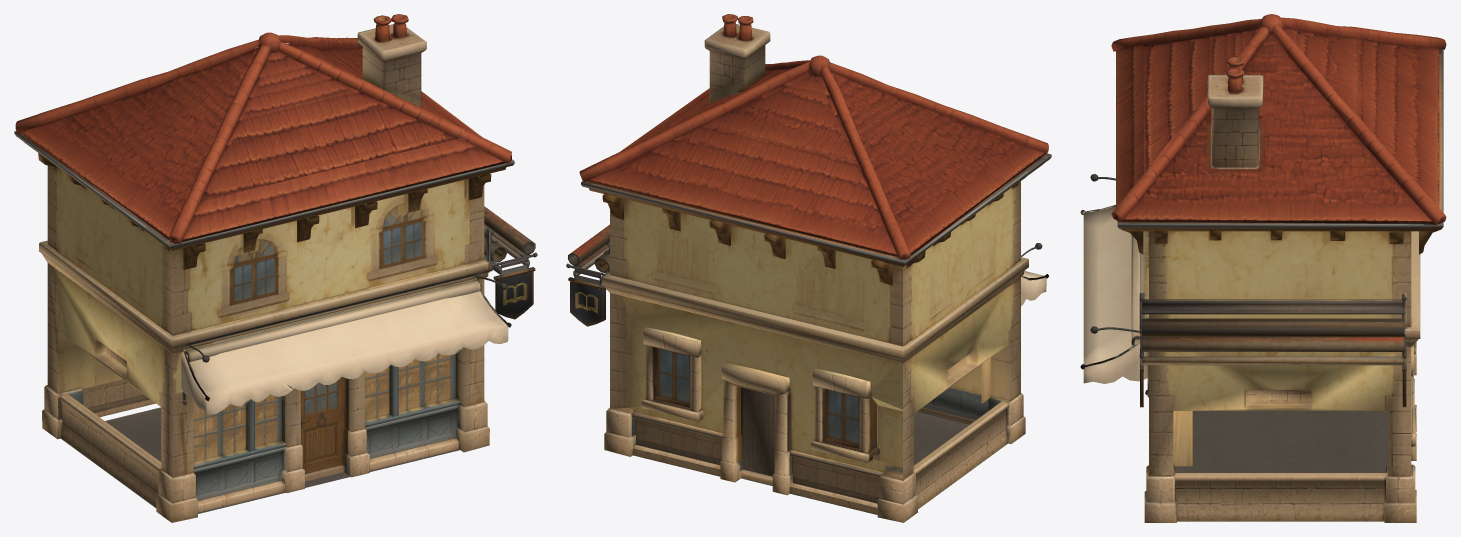
The model's file is Furn_Town2_Shop.fbx.
3 renders of one model, left to right at view 1: azimuth 30°, elevation 25°; view 2: azimuth 150°, elevation 25°; view 3: azimuth 270°, elevation 25°, orthographic. The views are drawn at different scales.
Visible parts, largest first — view 1: Furn_Town2_Shop; view 2: Furn_Town2_Shop; view 3: Furn_Town2_Shop.
Part boxes in pixels (x1,y1,x2,y2): Furn_Town2_Shop: (14, 14, 537, 522); Furn_Town2_Shop: (566, 14, 1051, 522); Furn_Town2_Shop: (1080, 14, 1446, 522).
Bounding box in the file's own units: 7.77 × 8 × 6.16.
Materials: 1 (1 with a texture image).
